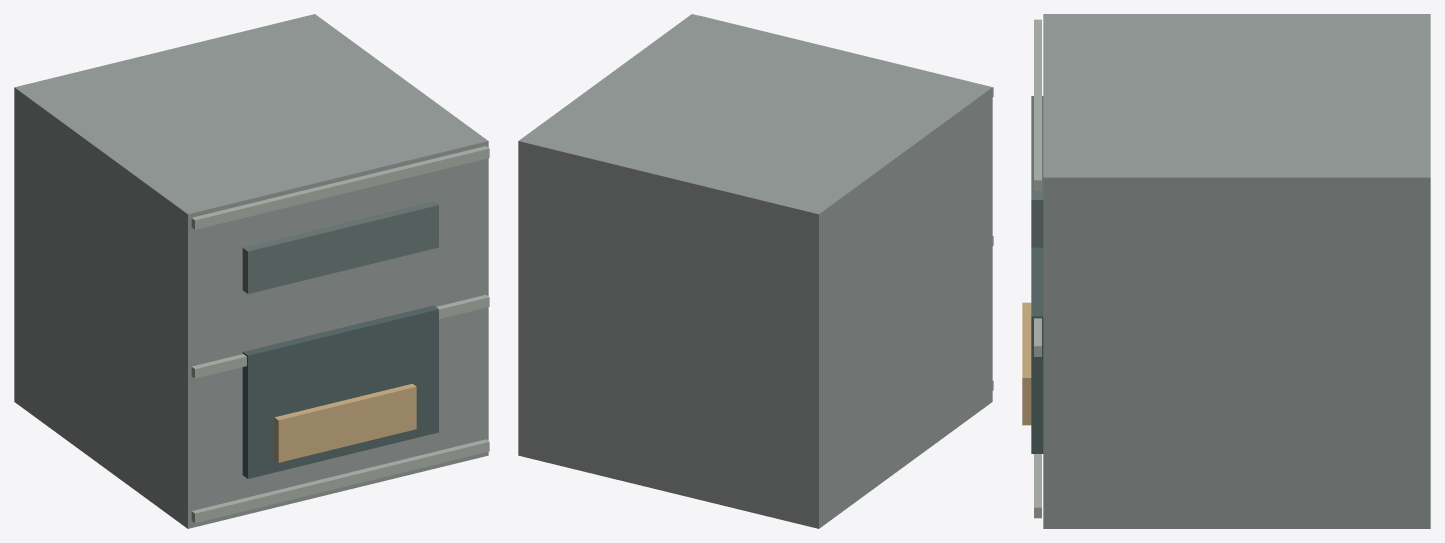
The model's file is item_furnace.glb.
3 renders of one model, left to right at view 1: azimuth 30°, elevation 25°; view 2: azimuth 150°, elevation 25°; view 3: azimuth 270°, elevation 25°, orthographic. The views are drawn at different scales.
Parts seen in each view (by area): view 1: item_furnace; view 2: item_furnace; view 3: item_furnace.
Boxes of the visible parts, x1=… form: item_furnace: x1=14, y1=14, x2=489, y2=528; item_furnace: x1=518, y1=14, x2=993, y2=528; item_furnace: x1=1022, y1=14, x2=1430, y2=528.
Size of the model in its own units: 1.48 by 1.48 by 1.56.
